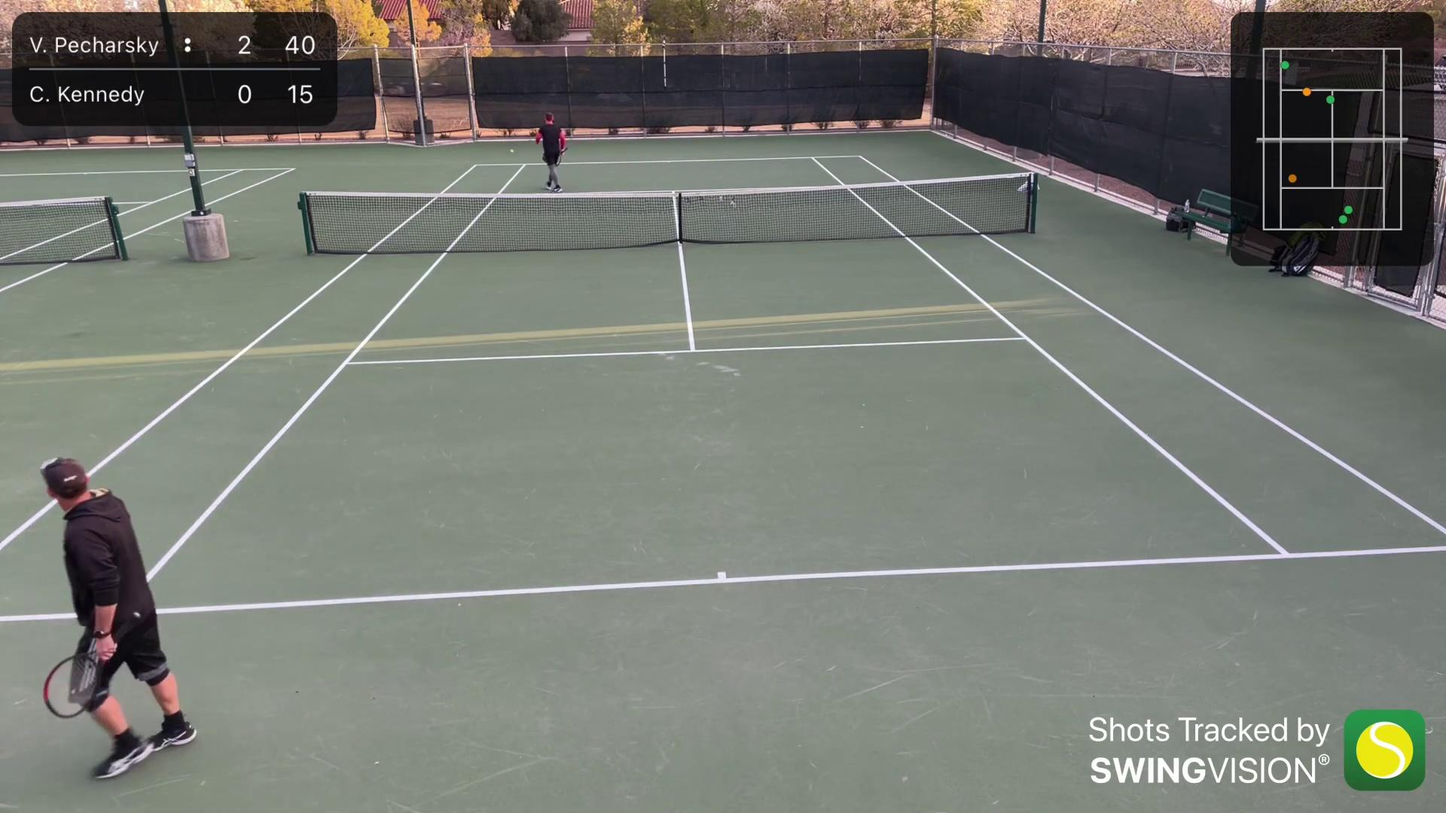ball: (508, 148, 516, 154)
